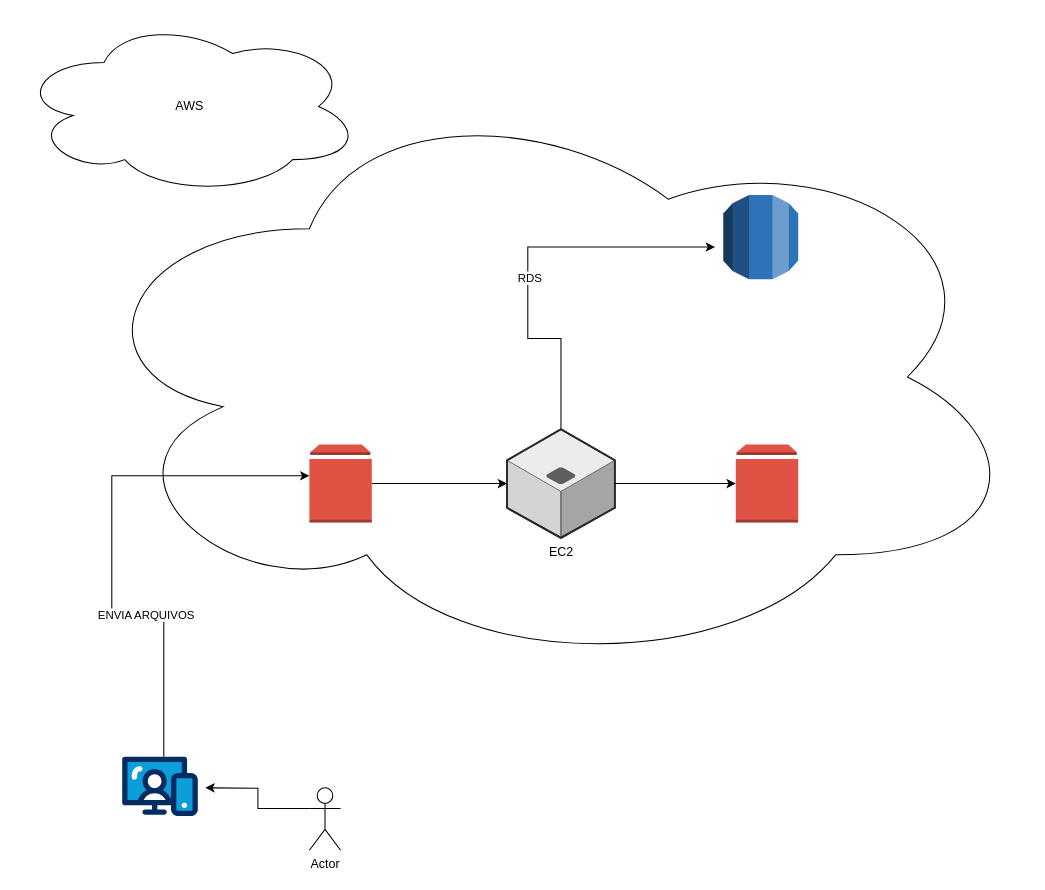
This 1045x890 diagram has some shape labels left out. Each missing label, with the centre of its shape:
"D - EBS" belongs at pixel 340 483.
"E - EBS" belongs at pixel 766 483.
